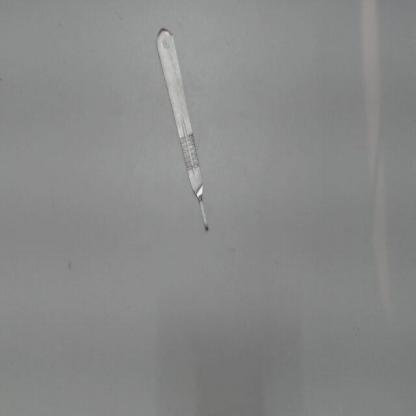No.3 BP Handle: (144, 13, 220, 244)
